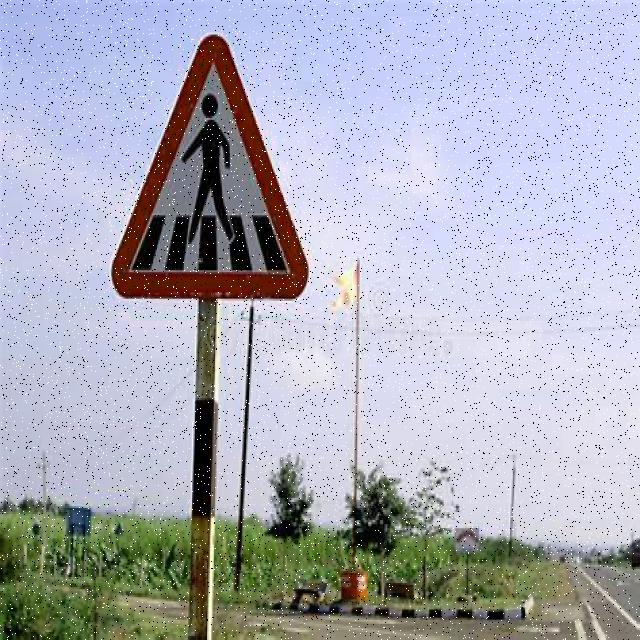Pedestrain_crossing: (109, 35, 321, 308)
